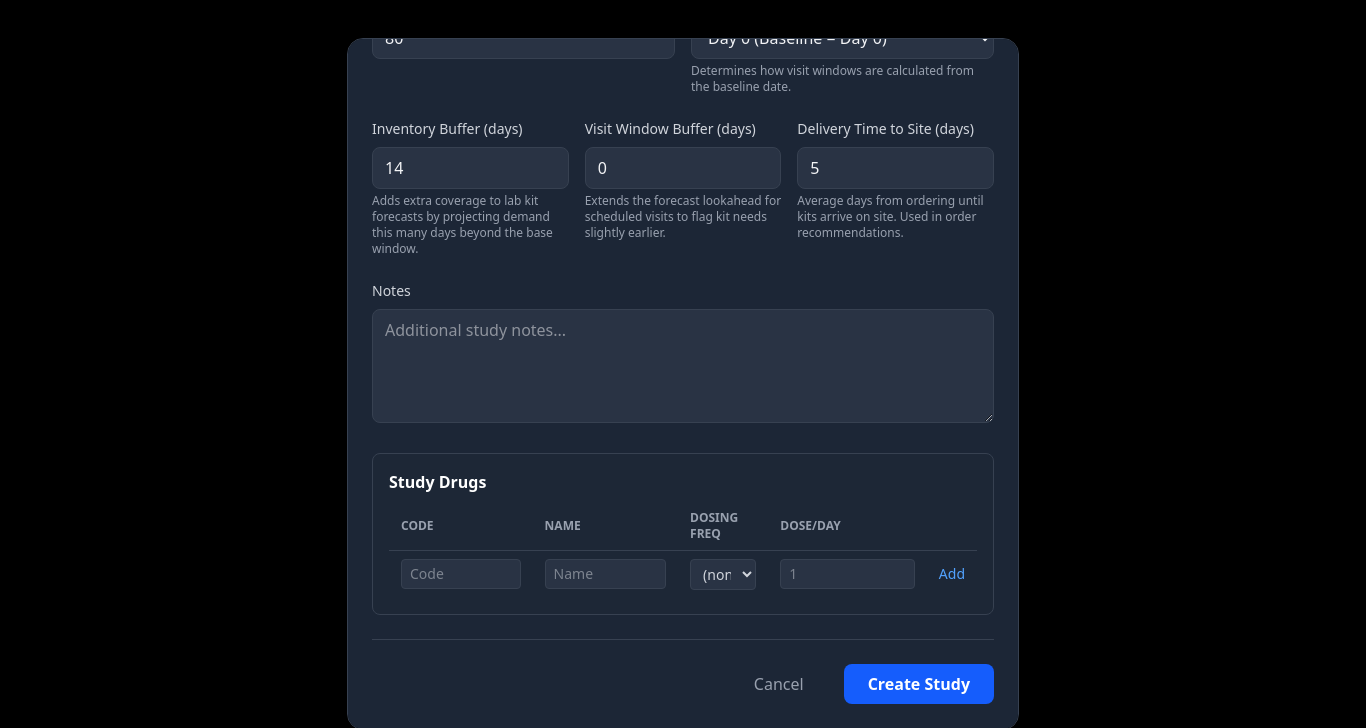
Test: AddStudyForm › shows validation errors for required fields
(page scrolled)
Click the button "Create Study". click: [919, 684]
box: [844, 664, 994, 704]
(page scrolled)
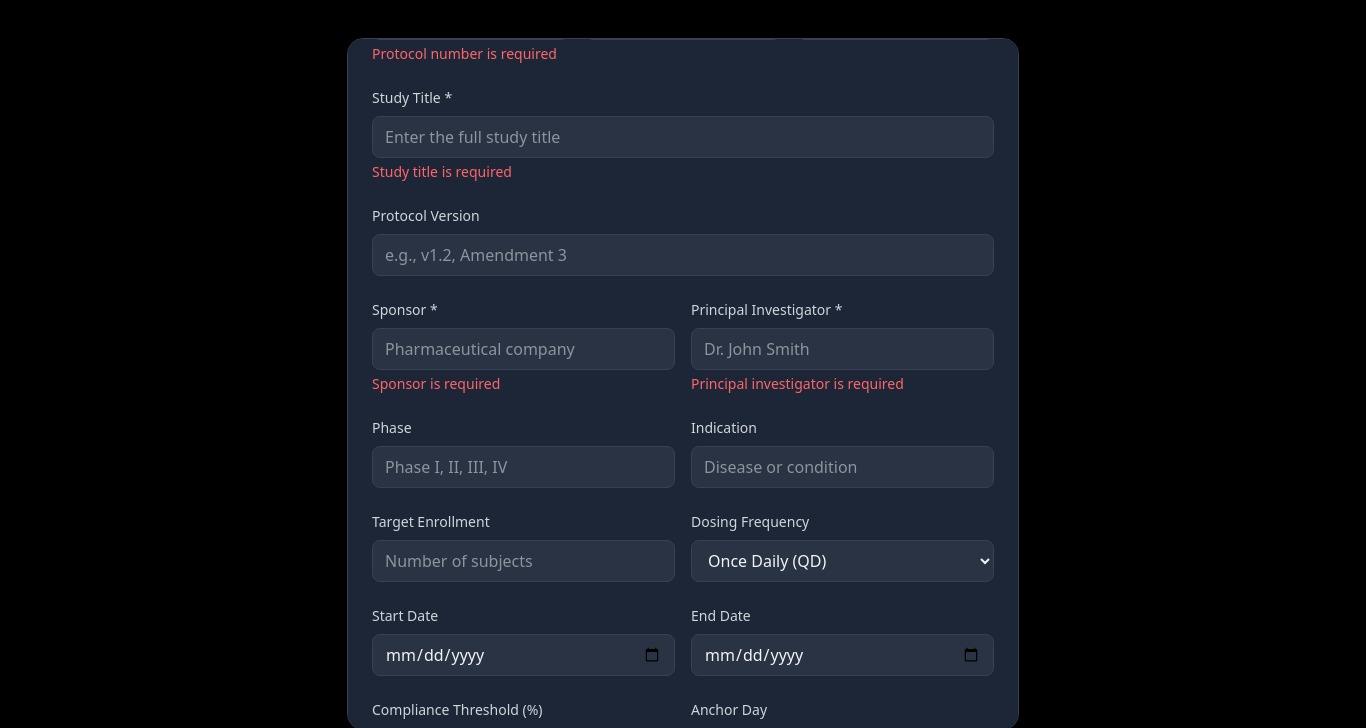
expect the text "Protocol number is required" is shown: met, box [372, 44, 569, 64]
expect the text "Study title is required" is shown: met, box [372, 162, 512, 181]
expect the text "Sponsor is required" is shown: met, box [372, 374, 500, 393]
